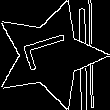L_E: (19, 32, 80, 78)
